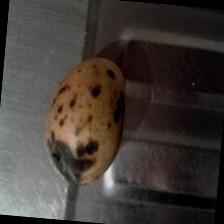Mango Overripe: (39, 50, 134, 190)
